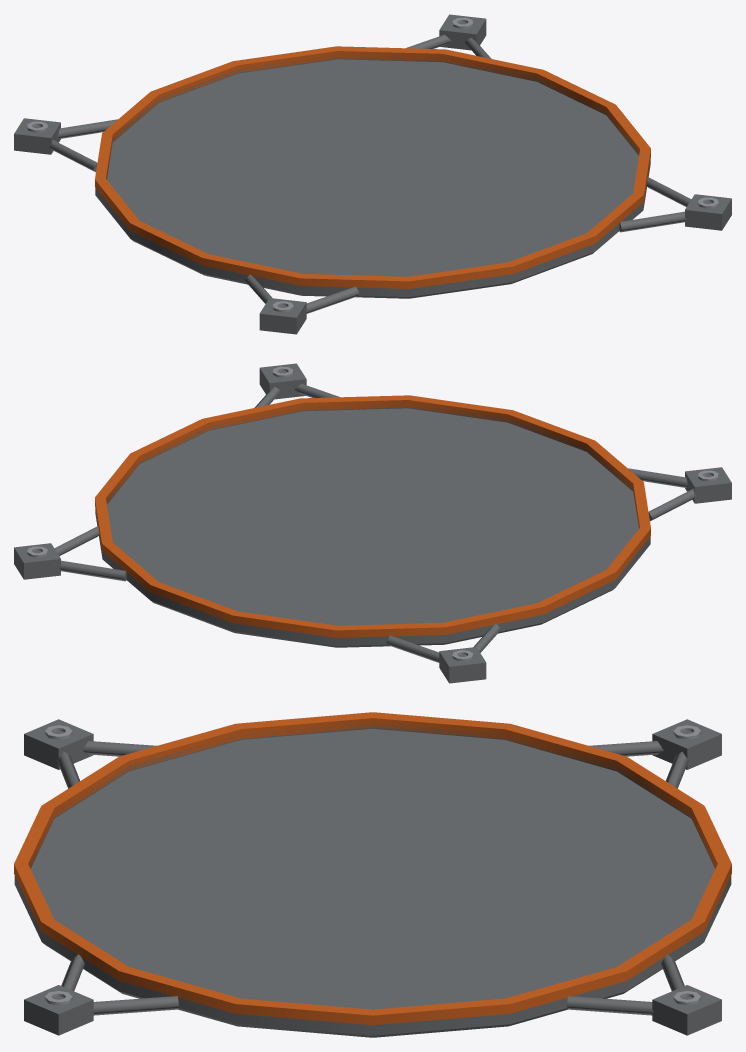
File: tz12_structure.obj
3 views of the same model, one above another, from view 1: azimuth 30°, elevation 25°; view 2: azimuth 150°, elevation 25°; view 3: azimuth 270°, elevation 25° (orthographic). The views are drawn at different scales.
Visible parts, largest first — view 1: tz12_structure; view 2: tz12_structure; view 3: tz12_structure.
Part boxes in pixels (x1,y1,x2,y2): tz12_structure: (14,14,731,334); tz12_structure: (14,363,731,683); tz12_structure: (14,712,731,1037).
Size of the model in its own units: 6.7 by 0.25 by 6.7.
